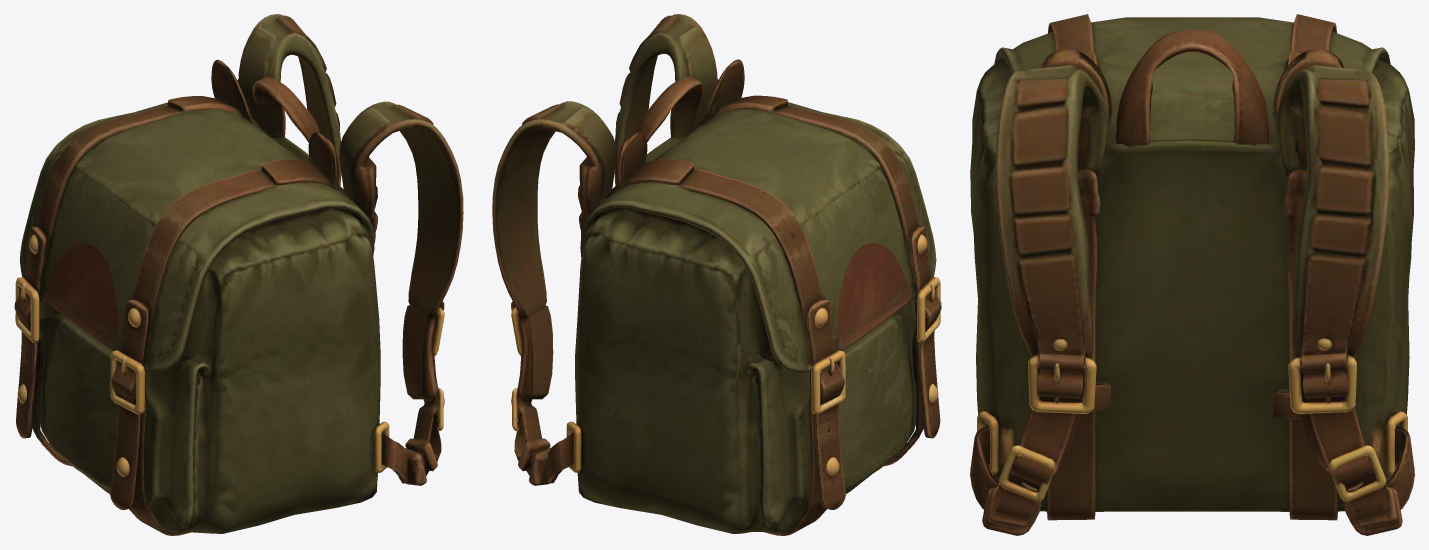
File: pack_v4.glb
3 renders of one model, left to right at view 1: azimuth 30°, elevation 25°; view 2: azimuth 150°, elevation 25°; view 3: azimuth 270°, elevation 25°, orthographic. The views are drawn at different scales.
Visible parts, largest first — view 1: tripo_7004ccb3_87d0_42ef_9258_d3ab078a85bc; view 2: tripo_7004ccb3_87d0_42ef_9258_d3ab078a85bc; view 3: tripo_7004ccb3_87d0_42ef_9258_d3ab078a85bc.
Boxes of the visible parts, x1,y1,x2,y2 form: tripo_7004ccb3_87d0_42ef_9258_d3ab078a85bc: [14, 14, 463, 535]; tripo_7004ccb3_87d0_42ef_9258_d3ab078a85bc: [492, 14, 941, 535]; tripo_7004ccb3_87d0_42ef_9258_d3ab078a85bc: [970, 14, 1414, 535].
Bounding box in the file's own units: 0.3048 × 0.34 × 0.2875.
1 material, 1 textured.
